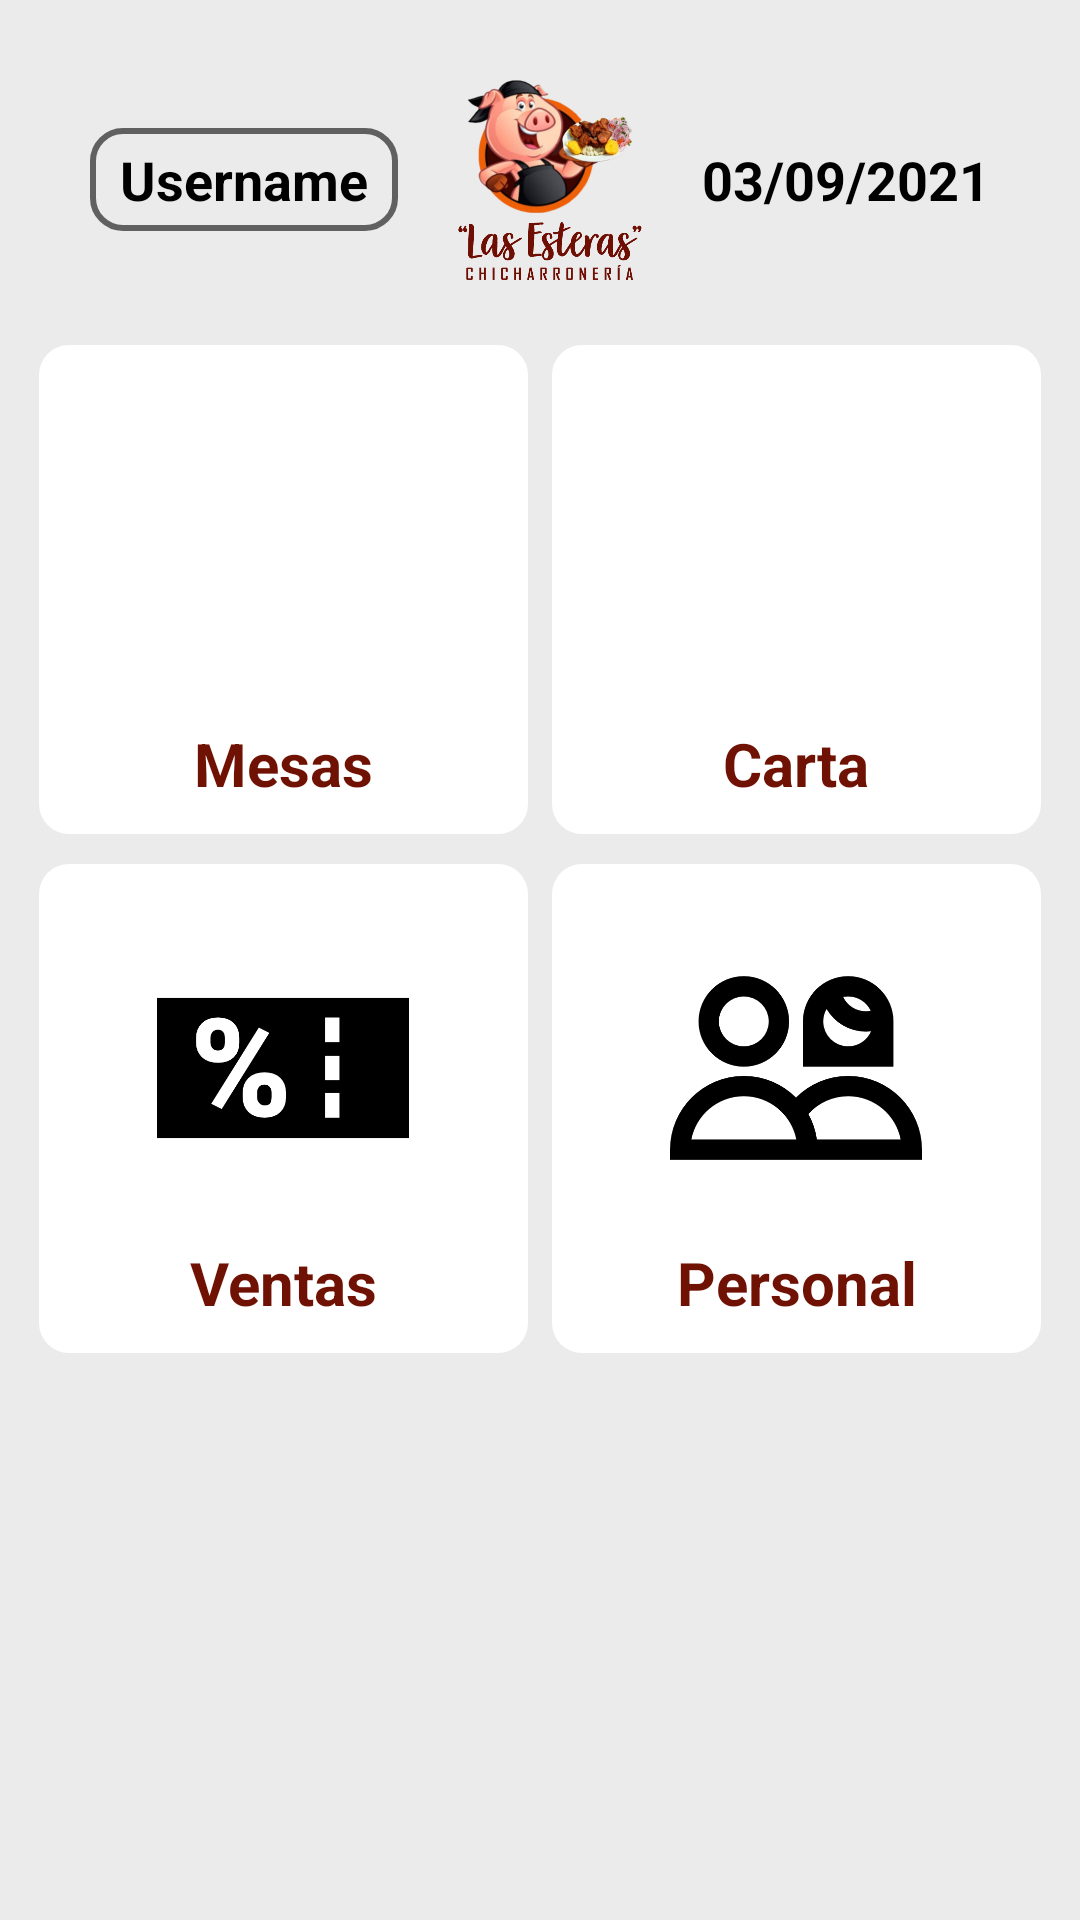

Where icons sit on this 1080 x 1920 app screen, as {"left": x1, "top": y1, "right": x2, "bottom": y2}:
couple: {"left": 670, "top": 976, "right": 922, "bottom": 1160}
coupon: {"left": 157, "top": 998, "right": 409, "bottom": 1138}
